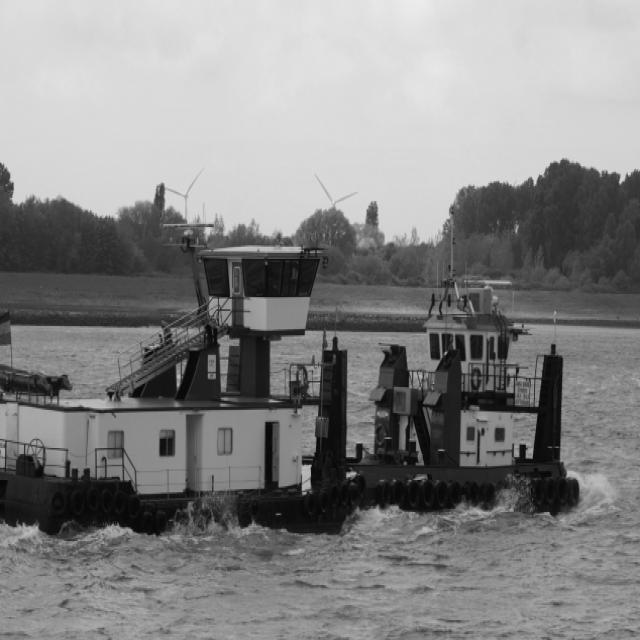tugboat: (1, 214, 356, 554), (302, 262, 584, 531)
